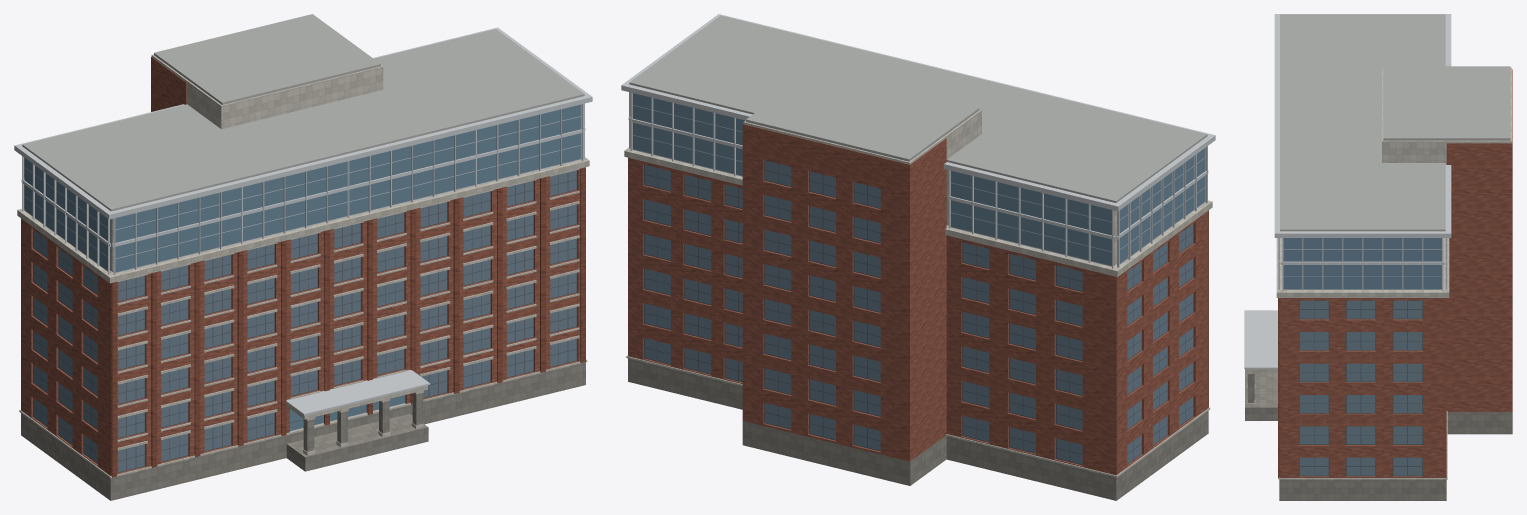
3 renders of one model, left to right at view 1: azimuth 30°, elevation 25°; view 2: azimuth 150°, elevation 25°; view 3: azimuth 270°, elevation 25°, orthographic. The views are drawn at different scales.
Parts seen in each view (by area): view 1: mainAdmin__brick_main, mainAdmin__roof_concrete, mainAdmin__glass_win, mainAdmin__glass_crown, mainAdmin__stone_cornice, mainAdmin__alu_silver, mainAdmin__granite_base, mainAdmin__brick_pilaster, mainAdmin__frame_dark; view 2: mainAdmin__brick_main, mainAdmin__roof_concrete, mainAdmin__glass_win, mainAdmin__glass_crown, mainAdmin__granite_base, mainAdmin__alu_silver, mainAdmin__frame_dark, mainAdmin__stone_cornice; view 3: mainAdmin__roof_concrete, mainAdmin__brick_main, mainAdmin__glass_win, mainAdmin__alu_silver, mainAdmin__glass_crown, mainAdmin__granite_base, mainAdmin__stone_cornice, mainAdmin__frame_dark, mainAdmin__brick_pilaster.
Boxes of the visible parts, x1,y1,x2,y2 form: mainAdmin__brick_main: (21,56,580,475); mainAdmin__roof_concrete: (22,14,584,211); mainAdmin__glass_win: (33,170,576,472); mainAdmin__glass_crown: (24,104,580,430); mainAdmin__stone_cornice: (17,54,589,478); mainAdmin__alu_silver: (14,27,592,415); mainAdmin__granite_base: (21,362,585,500); mainAdmin__brick_pilaster: (111,167,585,477); mainAdmin__frame_dark: (33,170,577,472); mainAdmin__brick_main: (628,124,1208,475); mainAdmin__roof_concrete: (629,15,1207,202); mainAdmin__glass_win: (644,160,1193,464); mainAdmin__glass_crown: (633,93,1205,266); mainAdmin__granite_base: (628,358,1208,500); mainAdmin__alu_silver: (621,14,1215,268); mainAdmin__frame_dark: (644,160,1193,465); mainAdmin__stone_cornice: (624,109,1212,477); mainAdmin__roof_concrete: (1280,14,1510,231); mainAdmin__brick_main: (1279,69,1512,477); mainAdmin__glass_win: (1299,300,1422,475); mainAdmin__alu_silver: (1244,14,1451,368); mainAdmin__glass_crown: (1283,238,1441,289); mainAdmin__granite_base: (1245,369,1512,500); mainAdmin__stone_cornice: (1246,67,1511,479); mainAdmin__frame_dark: (1299,300,1422,476); mainAdmin__brick_pilaster: (1278,298,1279,478).
Bounding box in the file's own units: 53.3 × 33.35 × 27.5.
Materials: 9 (4 with a texture image).
